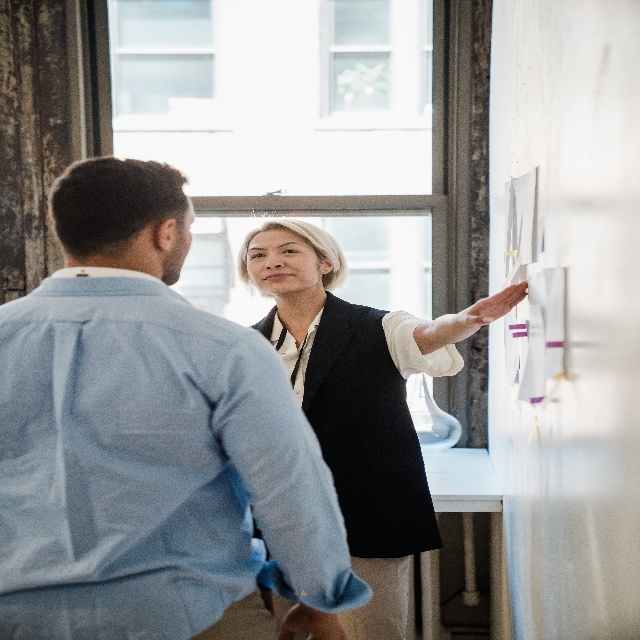Sin_guantes: (467, 287, 529, 330), (281, 605, 346, 640)
